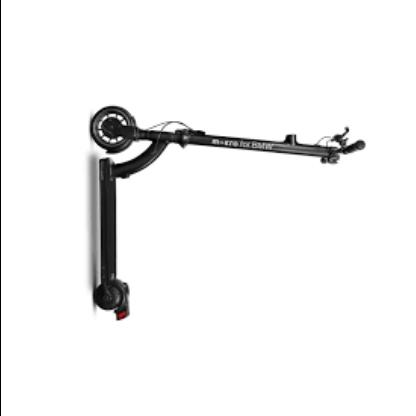bike: (90, 105, 368, 321)
